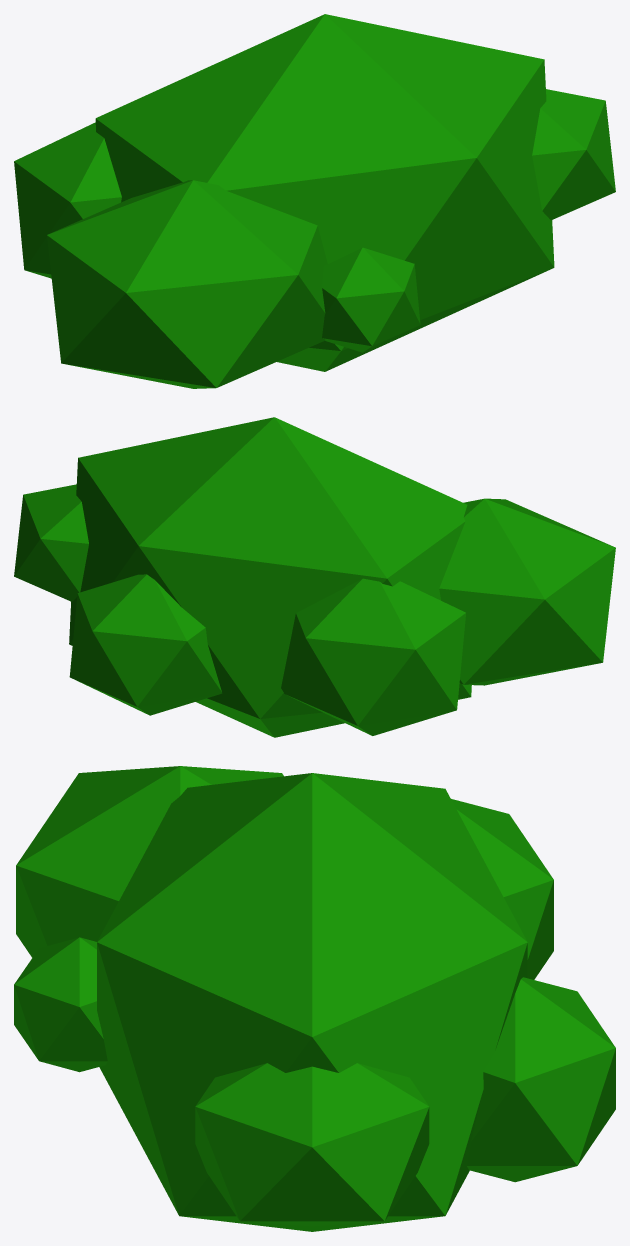
The model's file is BushBeta.fbx.
The picture shows the model from 3 angles, top to bottom: view 1: azimuth 30°, elevation 25°; view 2: azimuth 150°, elevation 25°; view 3: azimuth 270°, elevation 25°; orthographic projection. The views are drawn at different scales.
Visible parts, largest first — view 1: Icosphere.007; view 2: Icosphere.007; view 3: Icosphere.007.
Part boxes in pixels (bbox=[...]): Icosphere.007: bbox=[14, 14, 615, 388]; Icosphere.007: bbox=[14, 417, 615, 737]; Icosphere.007: bbox=[14, 766, 615, 1231].
Size of the model in its own units: 348 by 200 by 238.
